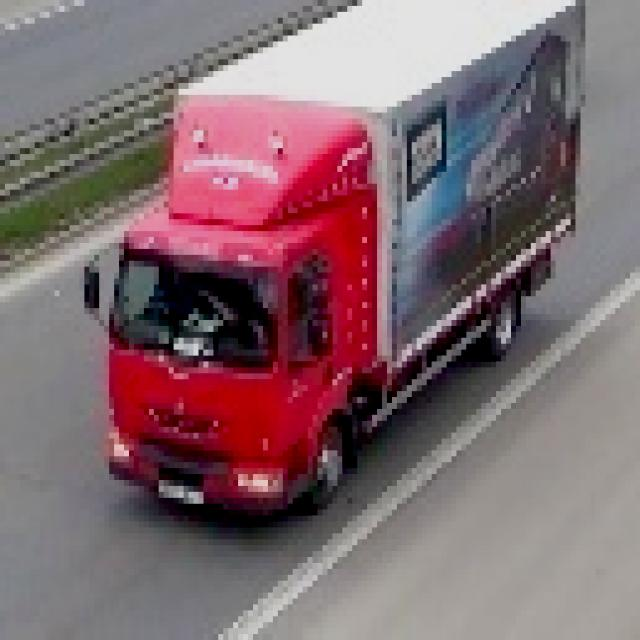truck: (85, 1, 586, 528)
